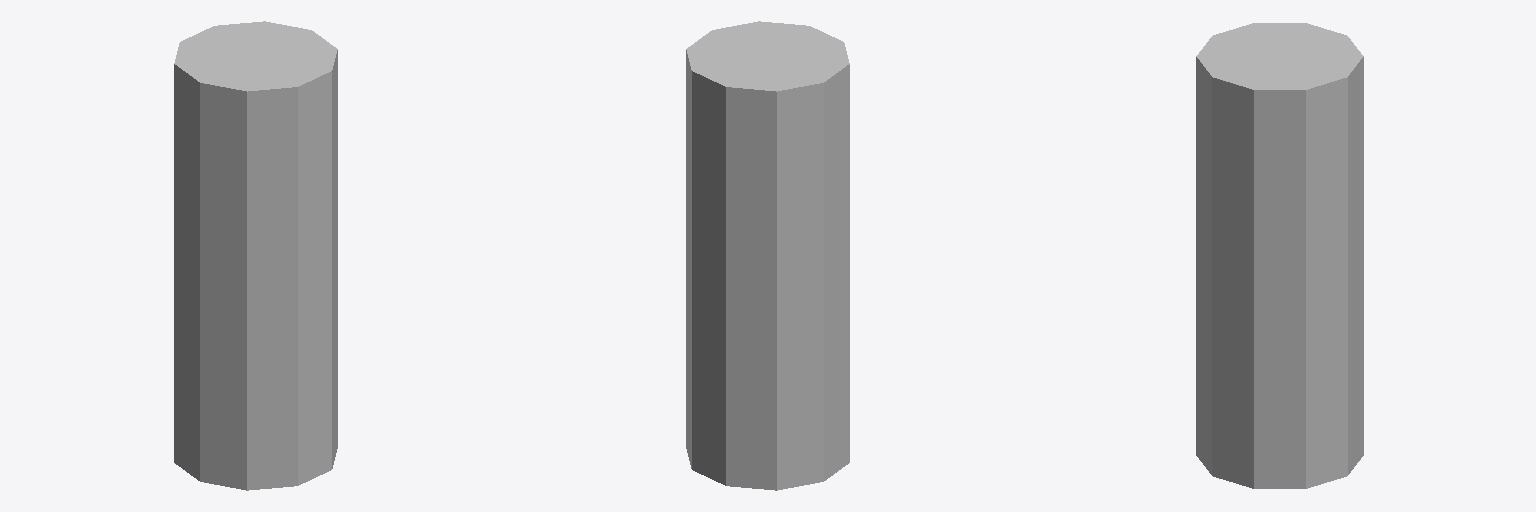
File: Cyl4.obj
The picture shows the model from 3 angles: view 1: azimuth 30°, elevation 25°; view 2: azimuth 150°, elevation 25°; view 3: azimuth 270°, elevation 25°; orthographic projection.
Parts seen in each view (by area): view 1: Cylinder.002; view 2: Cylinder.002; view 3: Cylinder.002.
Part boxes in pixels (bbox=[...]): Cylinder.002: bbox=[174, 21, 337, 490]; Cylinder.002: bbox=[686, 21, 849, 490]; Cylinder.002: bbox=[1196, 23, 1363, 488].
Bounding box in the file's own units: 1.9 × 5.27 × 2.